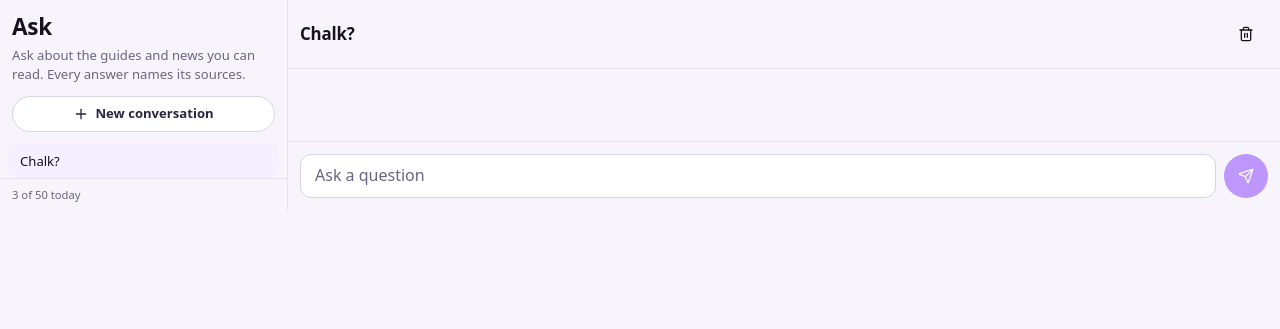
it: asking › shows the answer as it arrives, with its sources
In the text box labelled "Ask a question": (758, 176) [300,154,1216,198], type "Chalk policy?"
Then press Enter
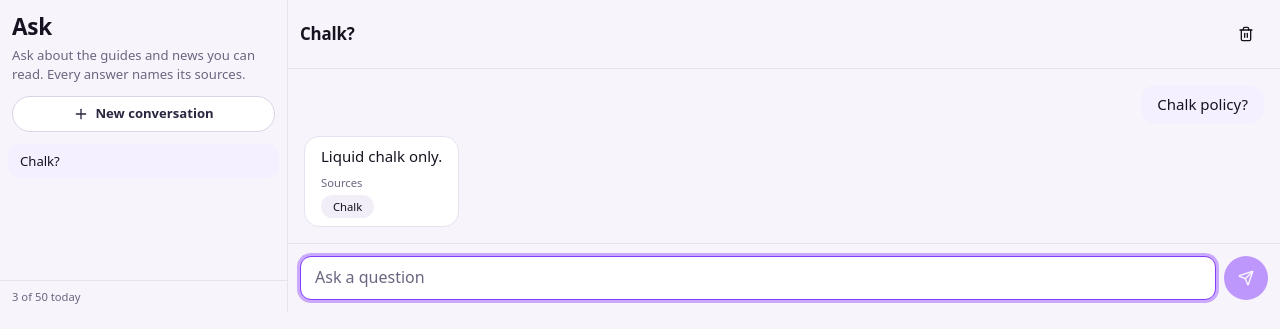
Check: the text "Liquid" is shown, box [321,146,442,166]
Check: the text "Liquid chalk only." is shown, box [321,144,442,167]
